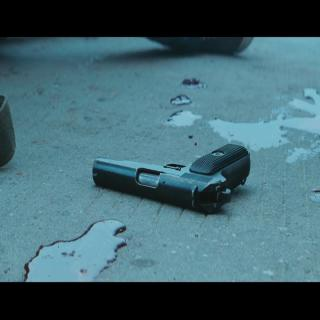gun: (91, 134, 250, 216)
